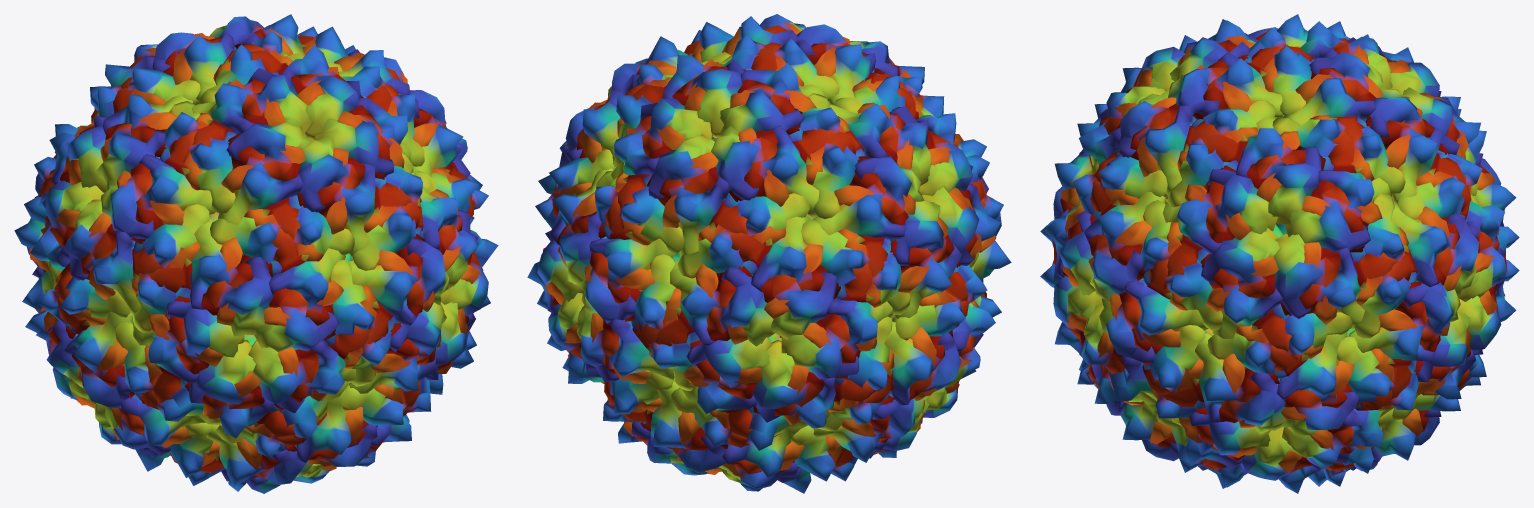
The picture shows the model from 3 angles, left to right: view 1: azimuth 30°, elevation 25°; view 2: azimuth 150°, elevation 25°; view 3: azimuth 270°, elevation 25°; orthographic projection.
Bounding box in the file's own units: 289 × 289 × 289.
